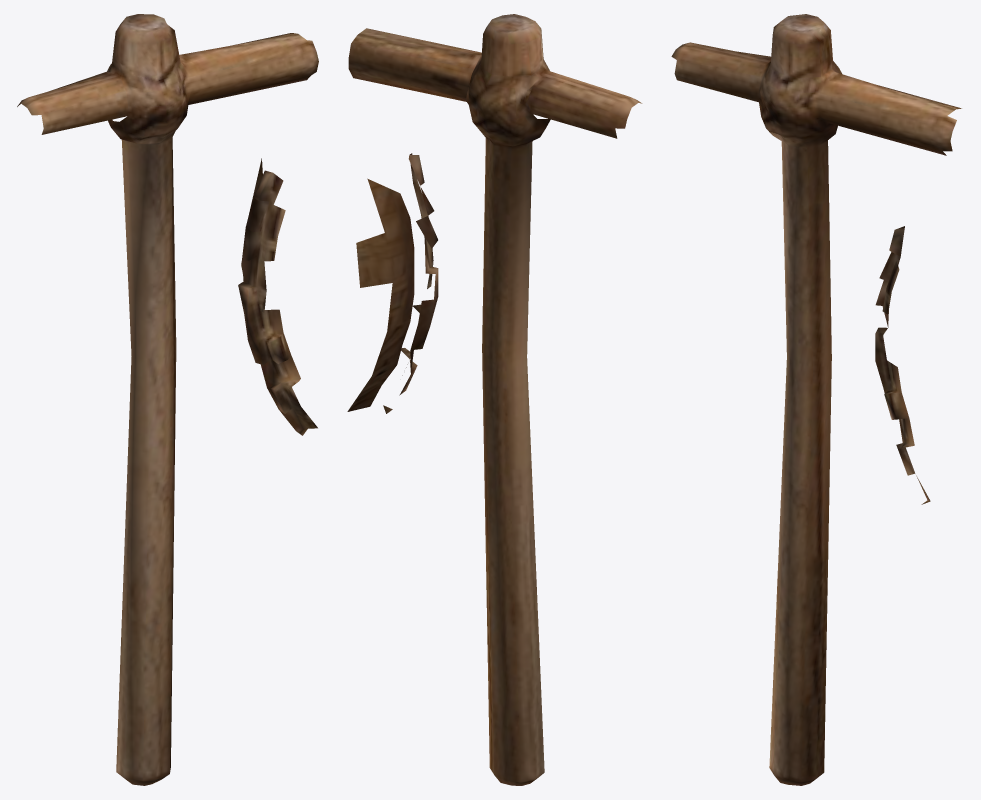
File: cuoc-chu-t.glb
The picture shows the model from 3 angles, left to right: view 1: azimuth 30°, elevation 25°; view 2: azimuth 150°, elevation 25°; view 3: azimuth 330°, elevation 25°; orthographic projection.
Bounding box in the file's own units: 0.1445 × 0.3672 × 0.043.
1 material, 1 textured.
